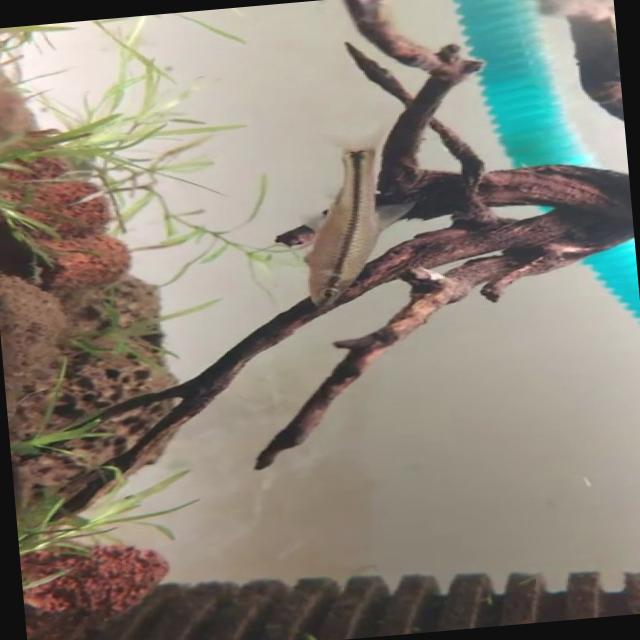Cakil Baligi: (272, 126, 424, 312)
